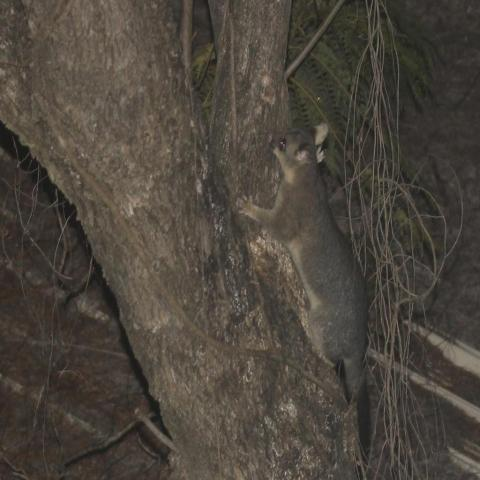small_animal: (235, 119, 373, 466)
